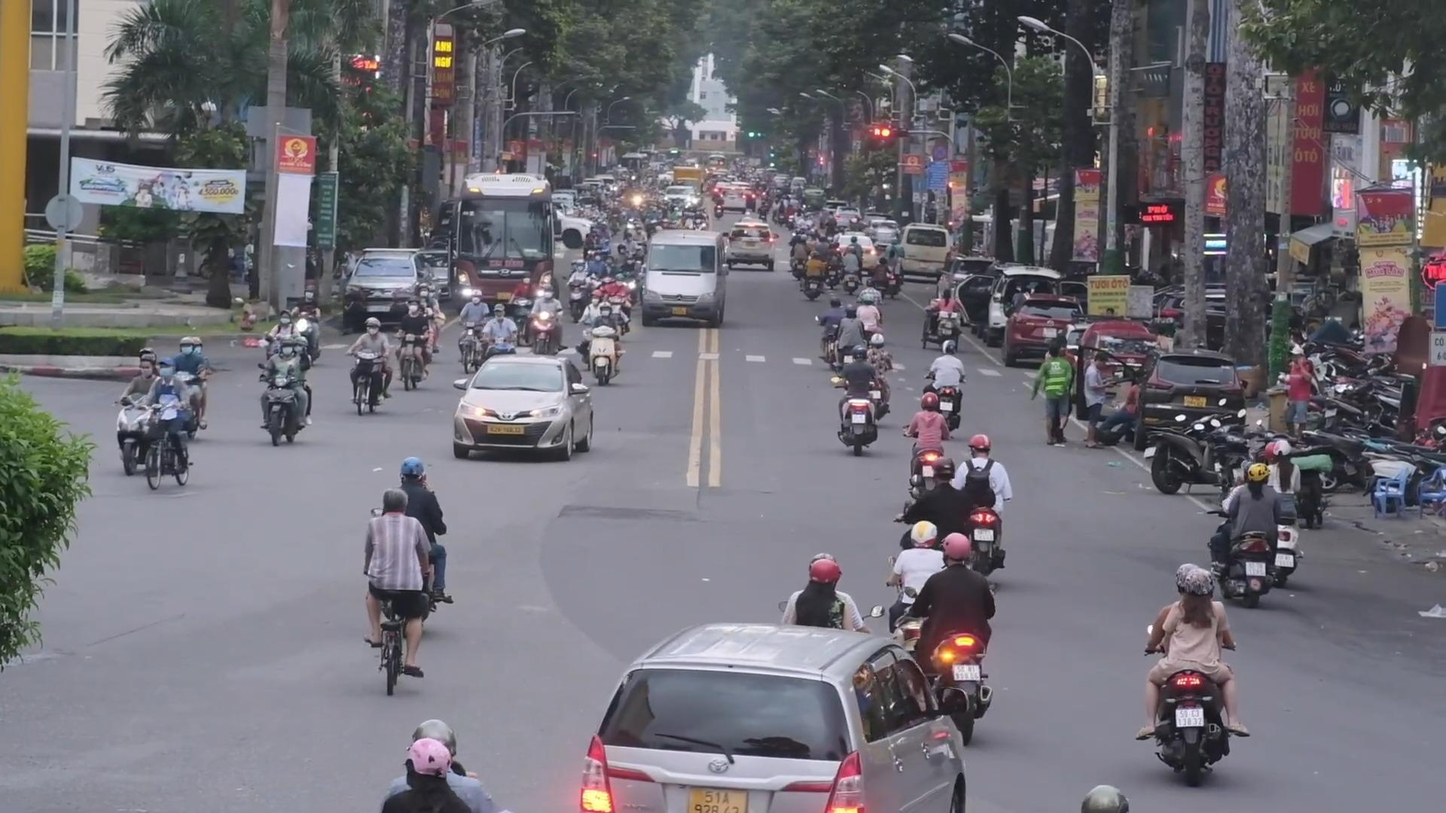bicyclist: (363, 488, 433, 696), (133, 356, 191, 490)
driver: (1136, 563, 1251, 788), (904, 533, 995, 747), (1207, 461, 1280, 608), (952, 434, 1012, 575), (257, 336, 312, 447), (902, 391, 954, 500), (835, 344, 882, 456), (345, 317, 393, 416), (923, 340, 966, 432), (585, 301, 627, 387), (394, 296, 430, 390), (457, 289, 490, 374), (527, 285, 563, 355)
helmet: (401, 738, 452, 788), (809, 559, 843, 593), (1183, 568, 1215, 601), (941, 533, 970, 569), (399, 457, 425, 485), (911, 521, 937, 548), (931, 457, 955, 484), (968, 434, 991, 458), (1248, 463, 1271, 485), (921, 392, 938, 412), (180, 337, 196, 356), (280, 336, 295, 356), (852, 344, 867, 361), (941, 340, 957, 355), (599, 301, 612, 318), (968, 531, 968, 532)
no-helmet: (382, 488, 408, 515), (157, 356, 176, 377), (1273, 441, 1292, 461), (493, 304, 506, 320)
